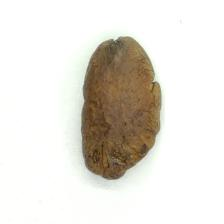NG: (110, 39, 162, 179)
